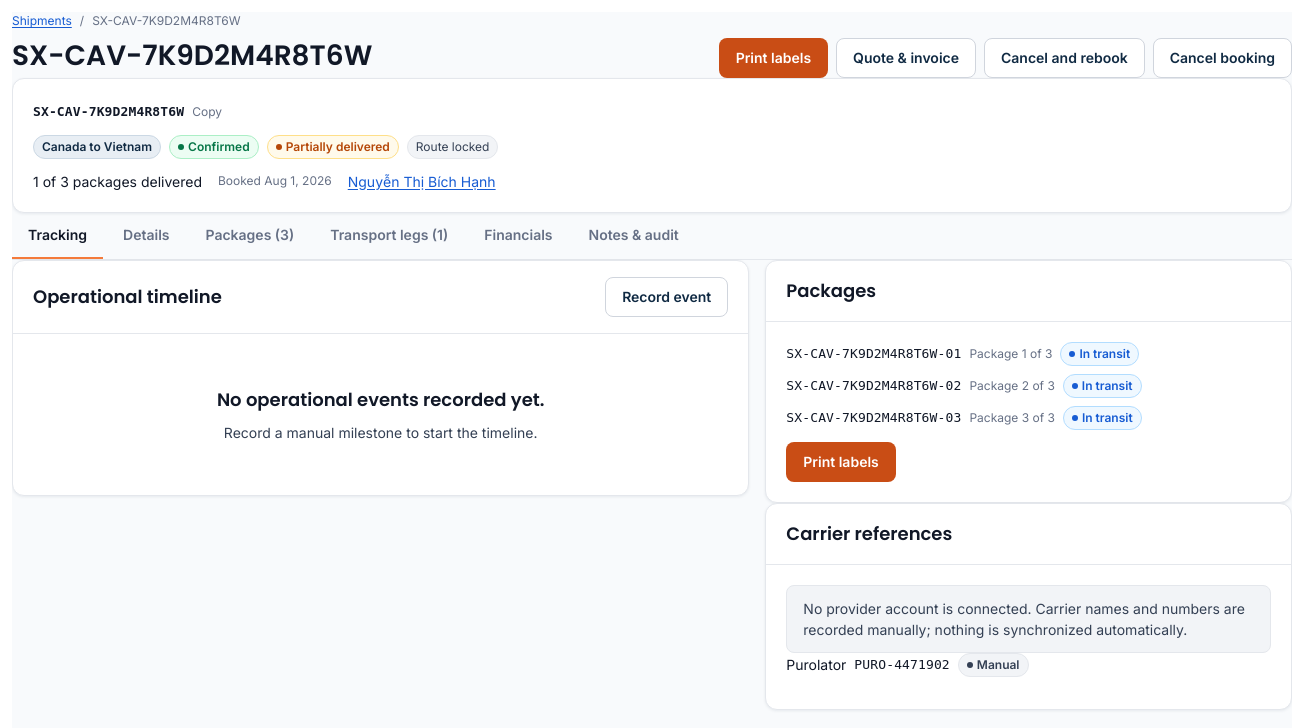
ShipmentDetailPage › shows revenue and cost to an admin
Click the tab "Financials" at (518, 236), box left=468, top=212, right=569, bottom=258
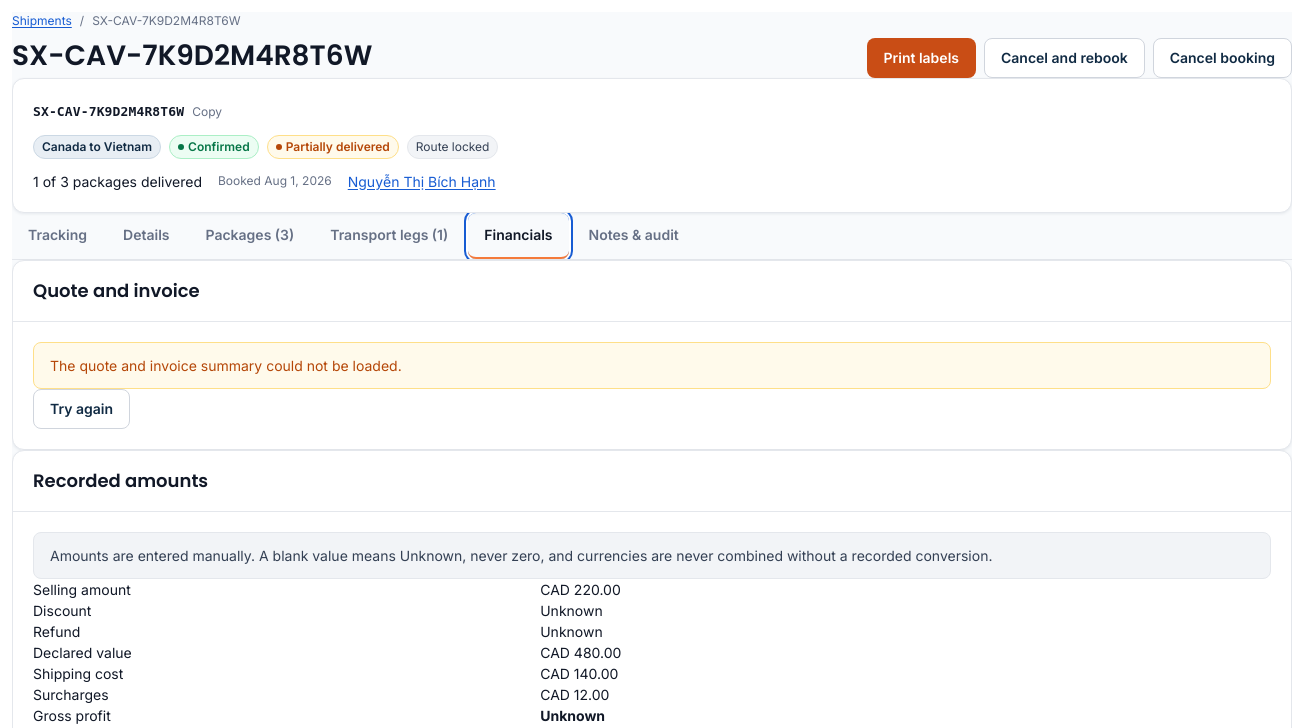
Expected: the text "CAD 220.00" is shown, left=540, top=580, right=621, bottom=598
Expected: the text "CAD 140.00" is shown, left=540, top=664, right=618, bottom=682
